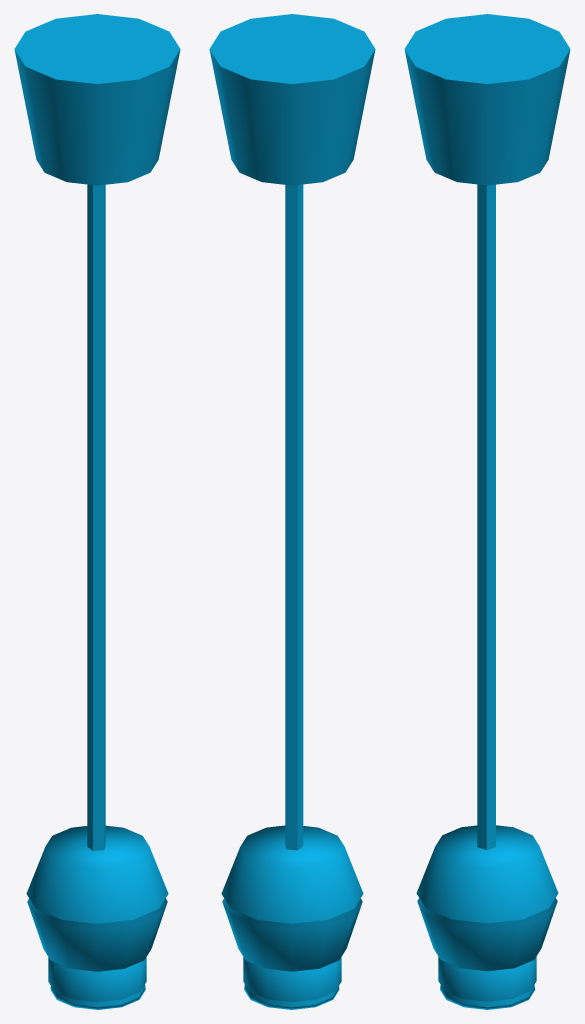
Rendered from Ceiling_Lamp_01.fbx.
3 views of the same model, side by side, from view 1: azimuth 30°, elevation 25°; view 2: azimuth 150°, elevation 25°; view 3: azimuth 270°, elevation 25° (orthographic).
Parts seen in each view (by area): view 1: Ceiling_Lamp_01; view 2: Ceiling_Lamp_01; view 3: Ceiling_Lamp_01.
Part boxes in pixels (x1=…): Ceiling_Lamp_01: x1=14, y1=14, x2=180, y2=1009; Ceiling_Lamp_01: x1=209, y1=14, x2=375, y2=1009; Ceiling_Lamp_01: x1=404, y1=14, x2=570, y2=1009.
Bounding box in the file's own units: 8.73 × 54.55 × 8.73.
